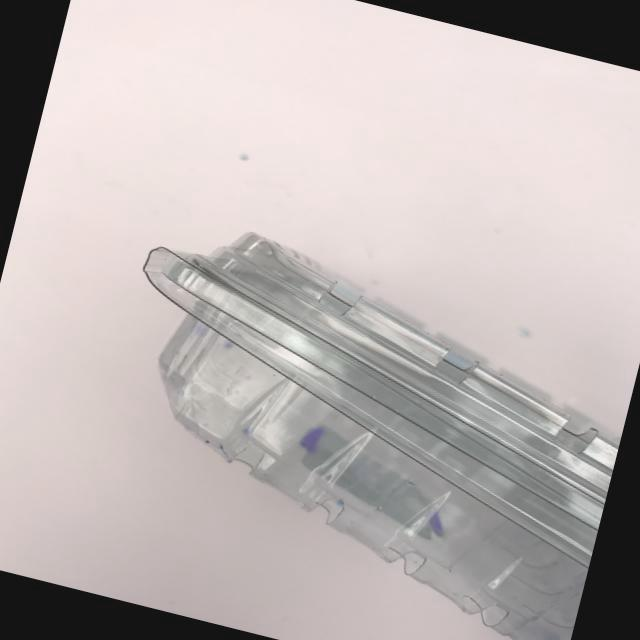plastic: (43, 153, 640, 640)
